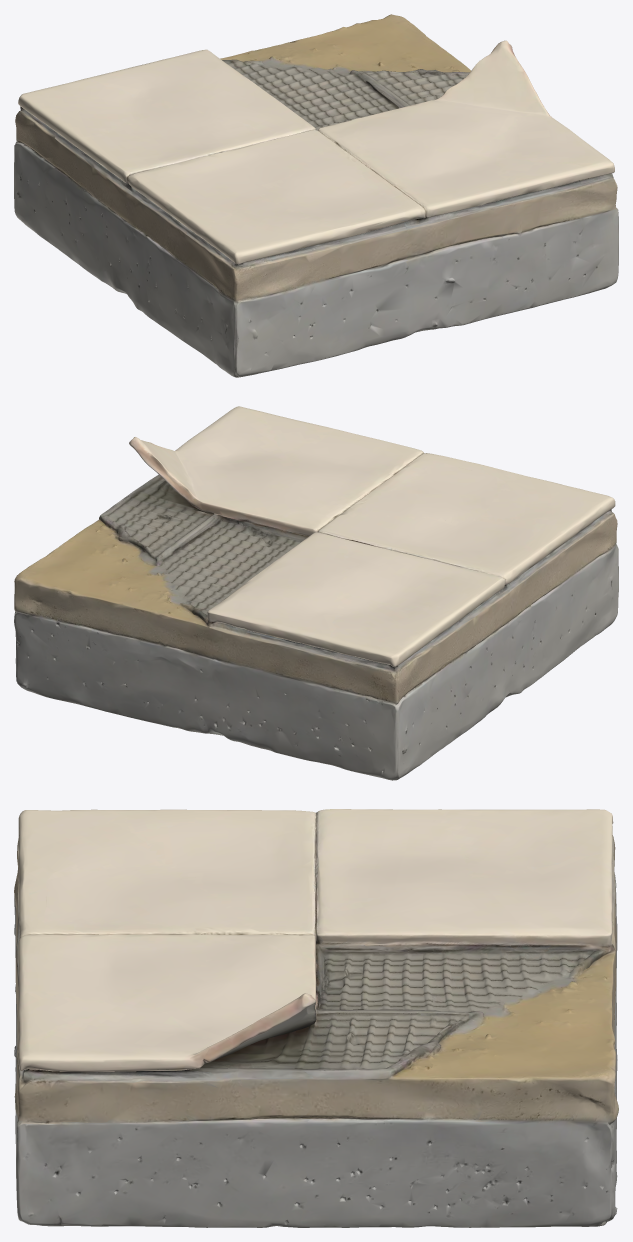
Rendered from tile-bed.glb.
The picture shows the model from 3 angles, top to bottom: view 1: azimuth 30°, elevation 25°; view 2: azimuth 150°, elevation 25°; view 3: azimuth 270°, elevation 25°; orthographic projection. The views are drawn at different scales.
Parts seen in each view (by area): view 1: tripo_node_af37213c-ecde-4030-8ca3-1c6e9f266426; view 2: tripo_node_af37213c-ecde-4030-8ca3-1c6e9f266426; view 3: tripo_node_af37213c-ecde-4030-8ca3-1c6e9f266426.
Boxes of the visible parts, x1=… form: tripo_node_af37213c-ecde-4030-8ca3-1c6e9f266426: x1=14, y1=14, x2=618, y2=377; tripo_node_af37213c-ecde-4030-8ca3-1c6e9f266426: x1=14, y1=406, x2=618, y2=780; tripo_node_af37213c-ecde-4030-8ca3-1c6e9f266426: x1=14, y1=809, x2=618, y2=1227.
Size of the model in its own units: 0.998 by 0.4198 by 1.
Materials: 1 (1 with a texture image).
